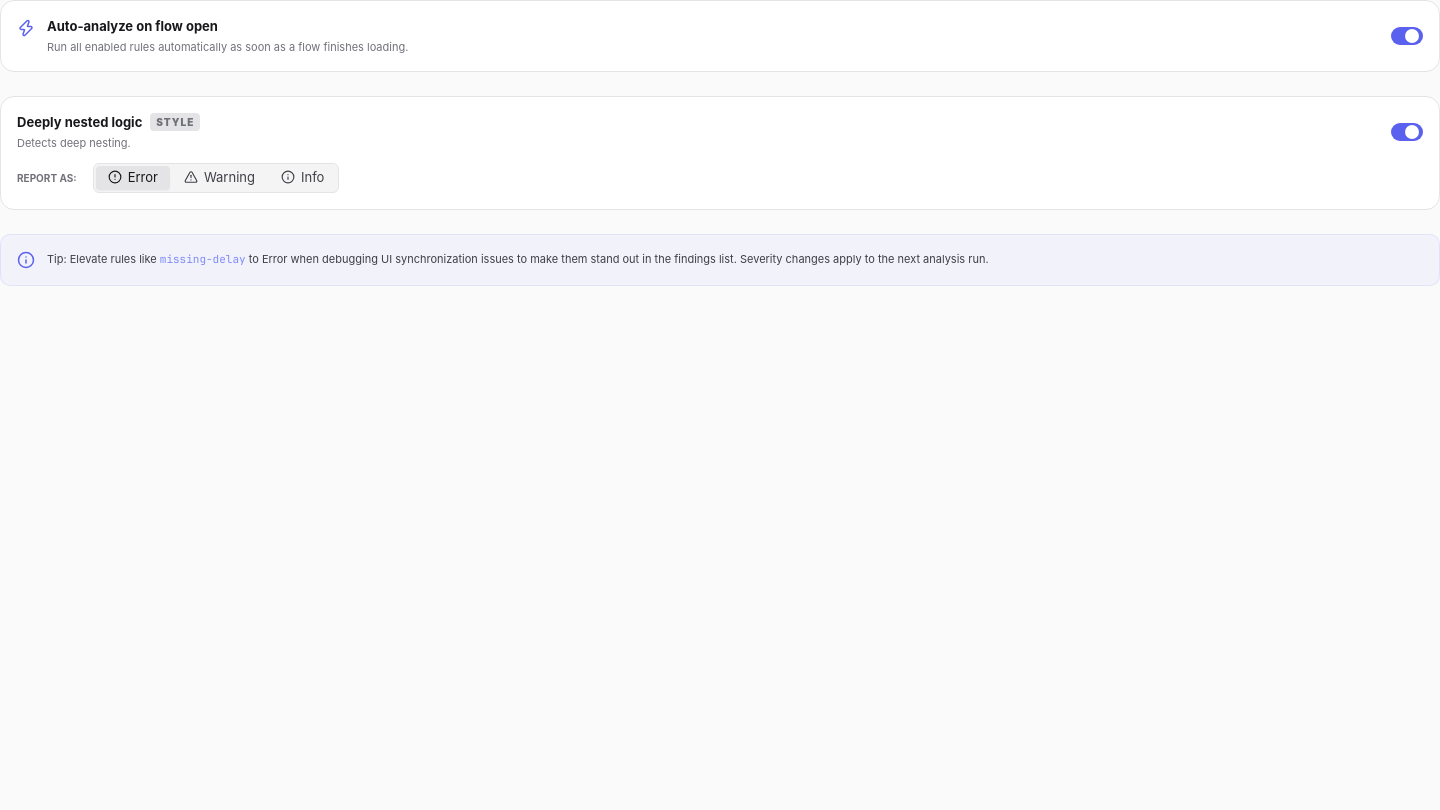
Test: RulesPanel › shows an error toast when the toggle fails
Expected: the heading "Deeply nested logic" is shown, left=17, top=113, right=142, bottom=131
Click the switch in the row of "Style". click: x=1407, y=132
box: left=1391, top=123, right=1423, bottom=141
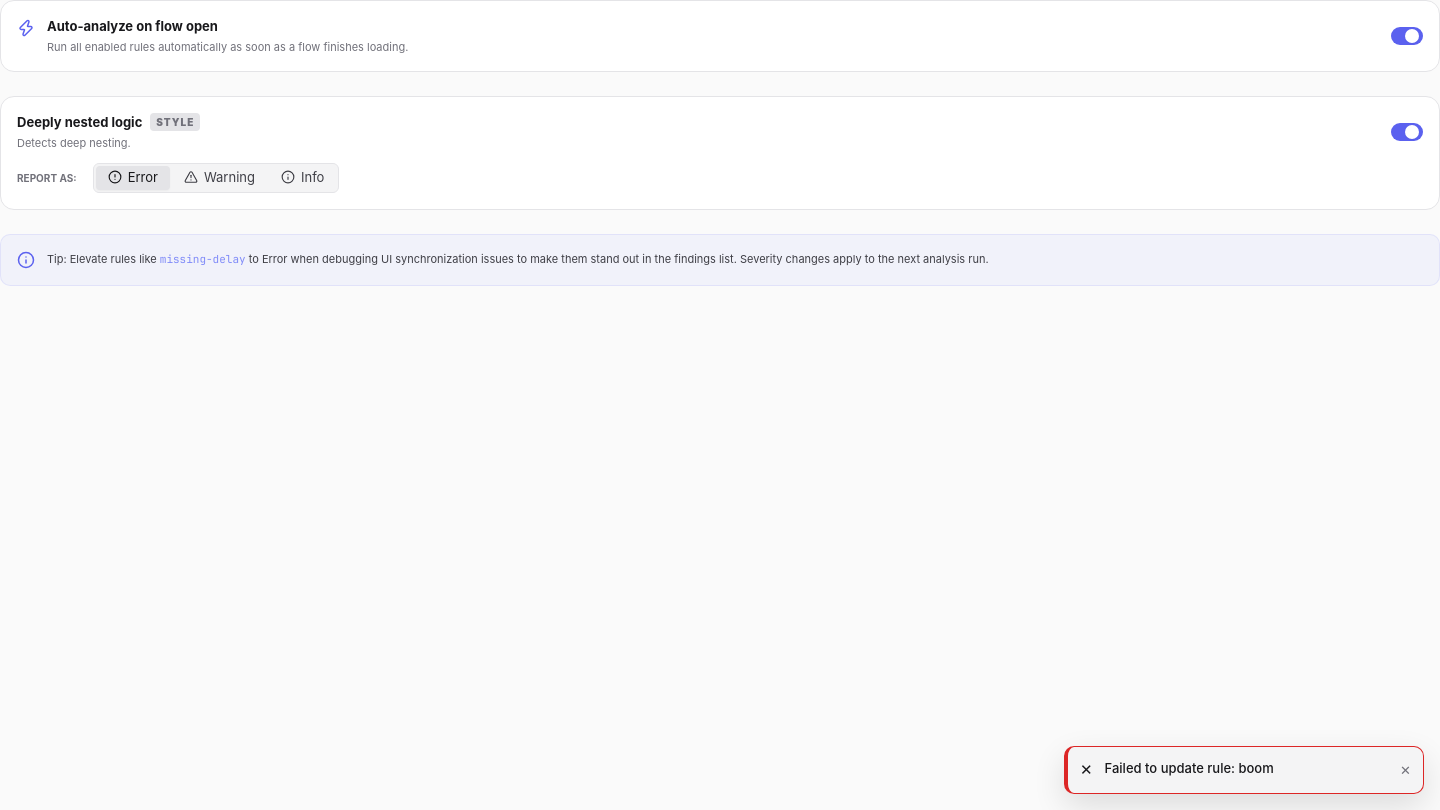
Result: the text "Failed to update rule: boom" is shown at left=1105, top=760, right=1274, bottom=776
